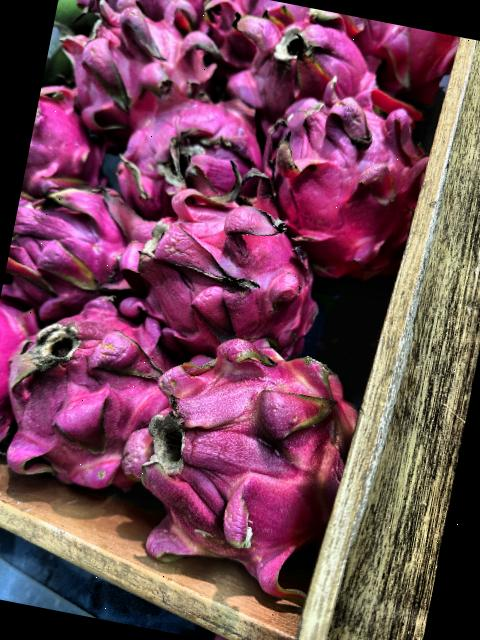buah-naga-matang: (112, 333, 376, 612), (100, 171, 350, 367), (0, 288, 183, 493), (259, 80, 435, 278), (111, 66, 278, 224), (57, 0, 215, 147), (0, 165, 136, 316), (225, 0, 380, 124), (332, 15, 461, 113), (22, 74, 121, 201), (79, 0, 207, 30)
